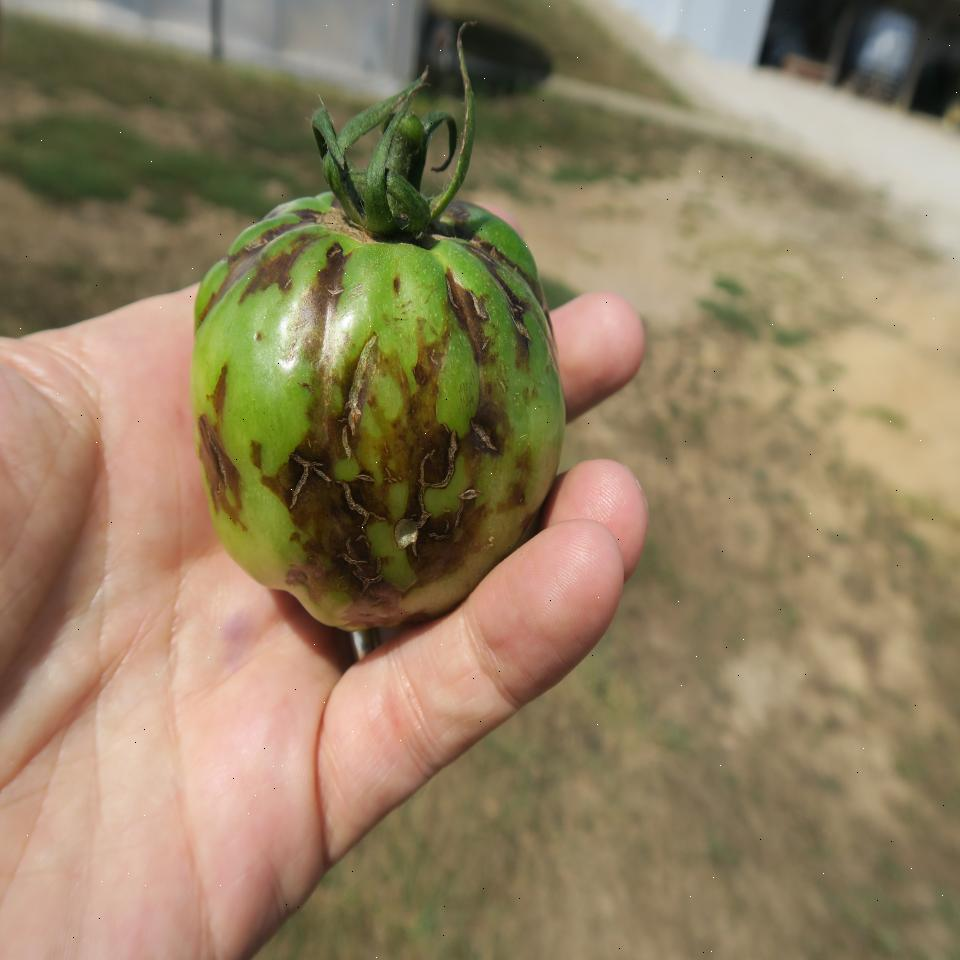Spotted wilt Virus: (184, 172, 569, 634)
